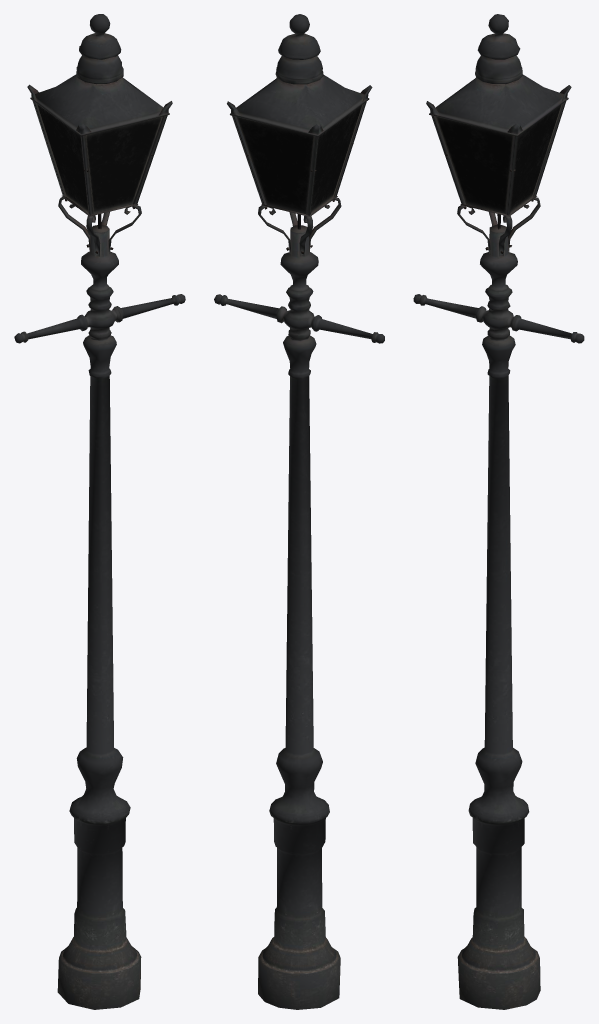
The picture shows the model from 3 angles, left to right: view 1: azimuth 30°, elevation 25°; view 2: azimuth 150°, elevation 25°; view 3: azimuth 330°, elevation 25°; orthographic projection.
Visible parts, largest first — view 1: street_lamp_01.001, street_lamp_01.002; view 2: street_lamp_01.001, street_lamp_01.002; view 3: street_lamp_01.001, street_lamp_01.002.
Boxes of the visible parts, x1,y1,x2,y2 form: street_lamp_01.001: [14, 14, 185, 1009]; street_lamp_01.002: [36, 103, 162, 213]; street_lamp_01.001: [214, 14, 384, 1009]; street_lamp_01.002: [237, 104, 363, 214]; street_lamp_01.001: [413, 14, 584, 1009]; street_lamp_01.002: [436, 104, 562, 213].
Size of the model in its own units: 0.7048 by 3.87 by 0.3844.
3 materials, 3 textured.
